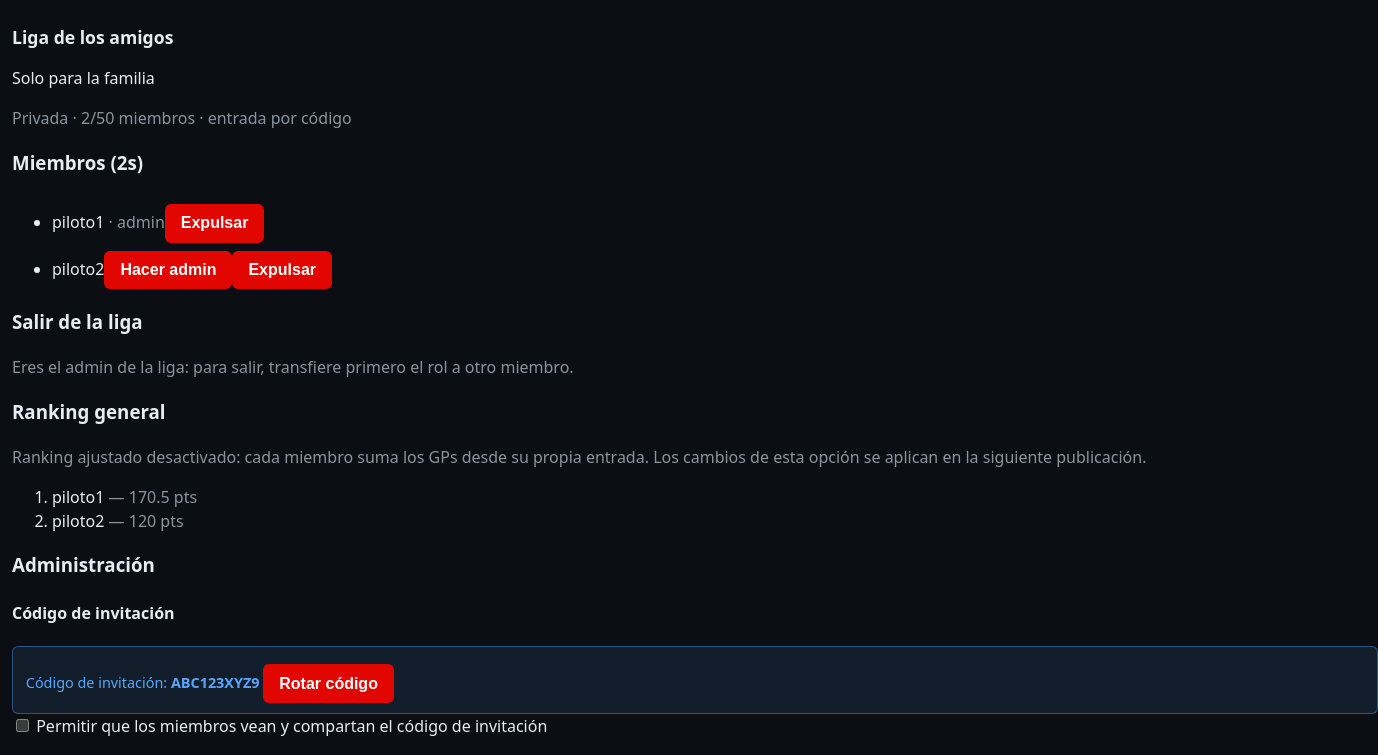
Scenario: LeagueDetailPage (US-24) › rota el código y muestra el nuevo (leagues.md §4)
This screenshot has width=1378, height=755.
Click the button "Rotar código" at (329, 684), box [263,664,394,703]
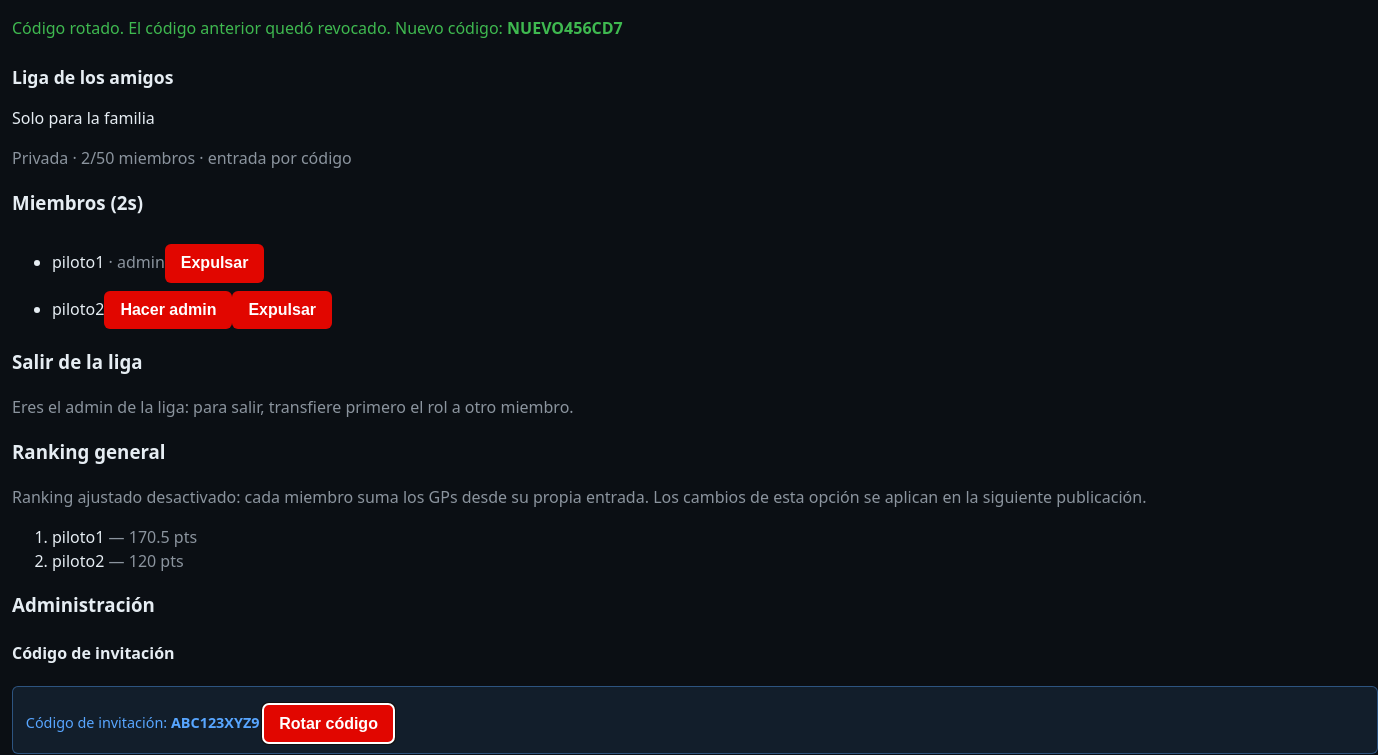
Now the text "Código rotado. El código anterior quedó revocado. Nuevo código: NUEVO456CD7" is shown, box [12,17,623,39]
Now the text "NUEVO456CD7" is shown, box [507,17,623,39]
